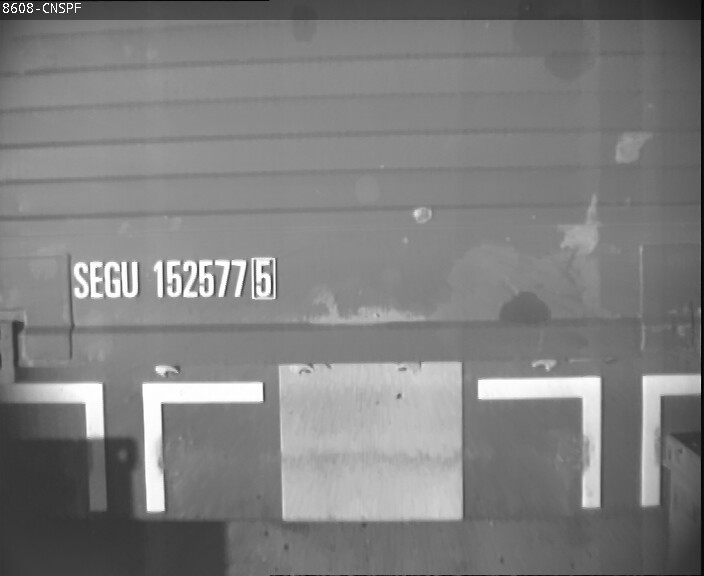groundmarker_1: (2, 381, 266, 511), (471, 377, 703, 504)
